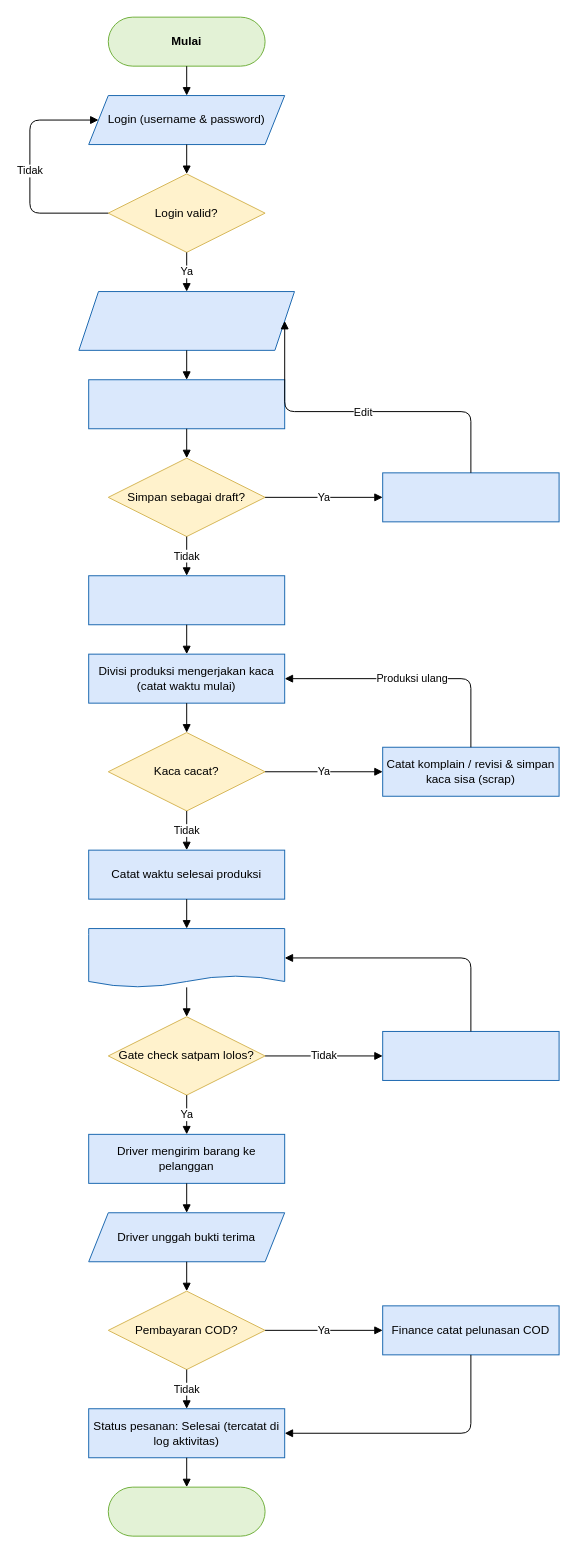
Some shapes in this 576 by 1553 pixel diagram are drawn without their labels. The shapes that lost their labels are listed below. From the top down, each one's centre as x and y in pixels, then its label:
[186,320]: Admin Toko input pesanan & item kaca (ukuran, jenis, qty)
[186,404]: Sistem hitung luas & harga otomatis
[470,497]: Simpan draft (dapat diedit kembali)
[186,600]: Kirim pesanan ke divisi produksi
[186,957]: Admin Gudang rilis barang & cetak surat jalan
[470,1055]: Perbaiki muatan / dokumen
[186,1511]: Selesai
